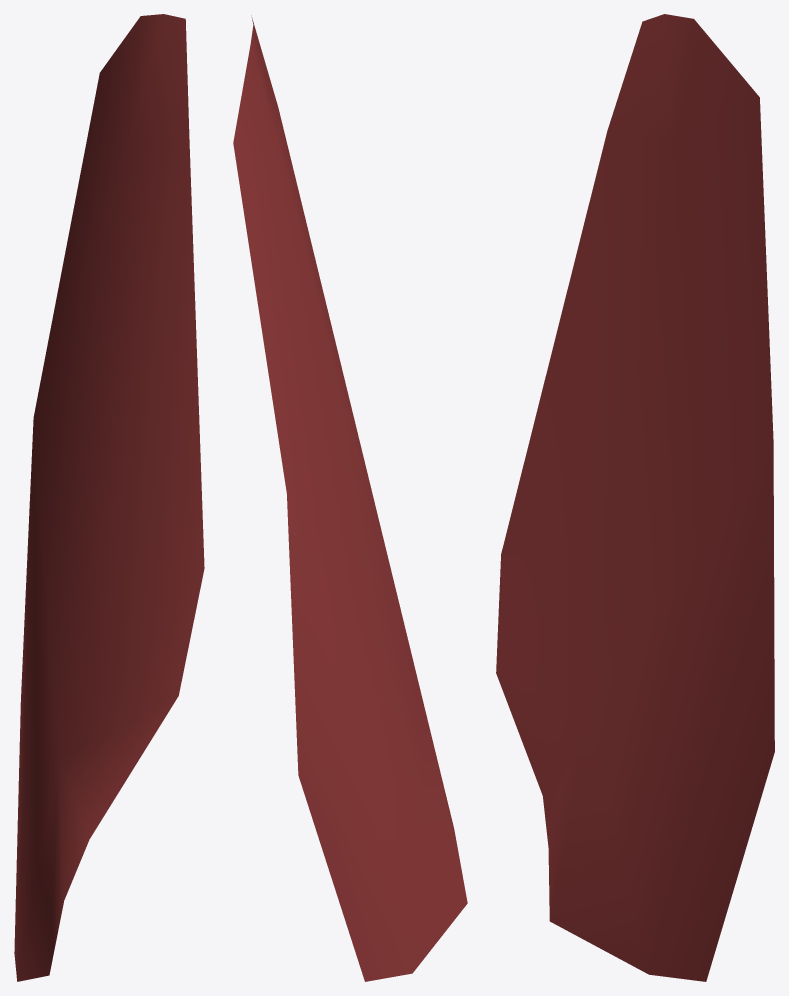
Rendered from pronator-teres-er.glb.
3 views of the same model, side by side, from view 1: azimuth 30°, elevation 25°; view 2: azimuth 150°, elevation 25°; view 3: azimuth 270°, elevation 25° (orthographic). The views are drawn at different scales.
Visible parts, largest first — view 1: Pronator teres.er; view 2: Pronator teres.er; view 3: Pronator teres.er.
Part boxes in pixels (bbox=[...]): Pronator teres.er: bbox=[14, 14, 204, 981]; Pronator teres.er: bbox=[233, 15, 467, 981]; Pronator teres.er: bbox=[496, 14, 774, 981].
Bounding box in the file's own units: 0.00544 × 0.0271 × 0.00656.
